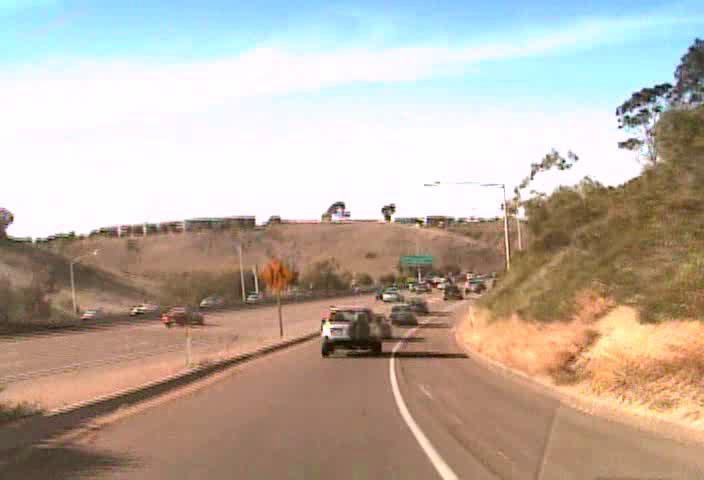addedLane: (258, 258, 292, 292)
